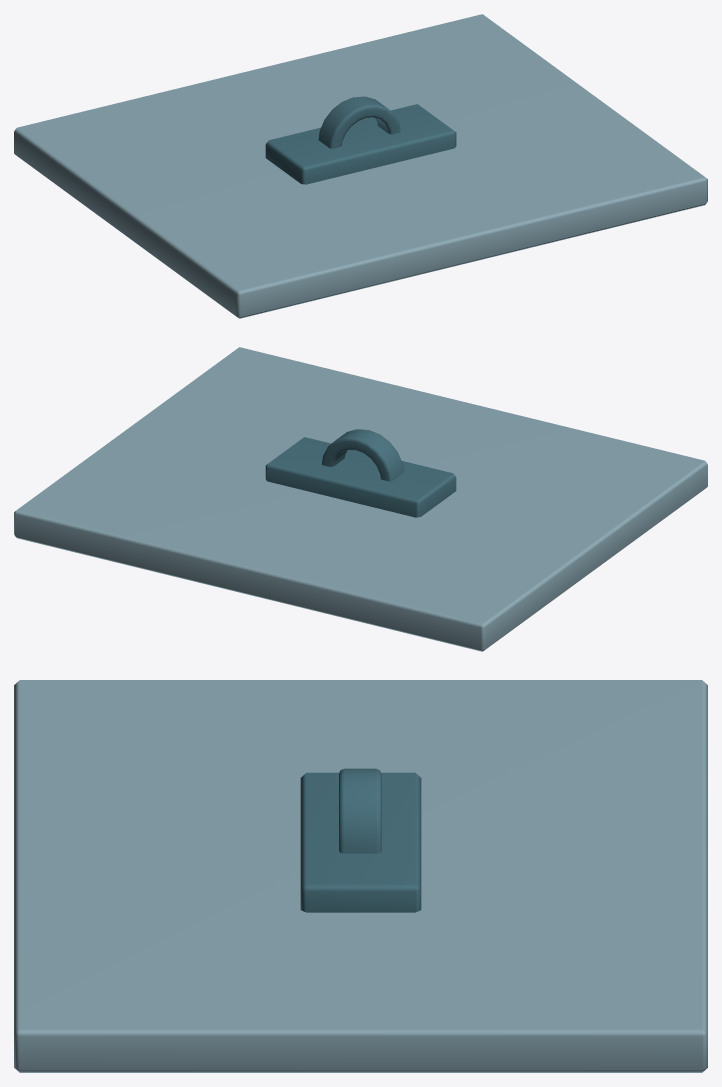
File: City_3_Hot_Dog_Car_Cap_1.glb
3 views of the same model, one above another, from view 1: azimuth 30°, elevation 25°; view 2: azimuth 150°, elevation 25°; view 3: azimuth 270°, elevation 25° (orthographic). The views are drawn at different scales.
Parts seen in each view (by area): view 1: City_3_Hot_Dog_Car_Cap_1; view 2: City_3_Hot_Dog_Car_Cap_1; view 3: City_3_Hot_Dog_Car_Cap_1.
Part boxes in pixels (<box>): City_3_Hot_Dog_Car_Cap_1: <box>14,14,707,318</box>; City_3_Hot_Dog_Car_Cap_1: <box>14,347,707,651</box>; City_3_Hot_Dog_Car_Cap_1: <box>14,680,707,1072</box>.
Bounding box in the file's own units: 0.7688 × 0.1247 × 0.6376.
Materials: 1 (1 with a texture image).
